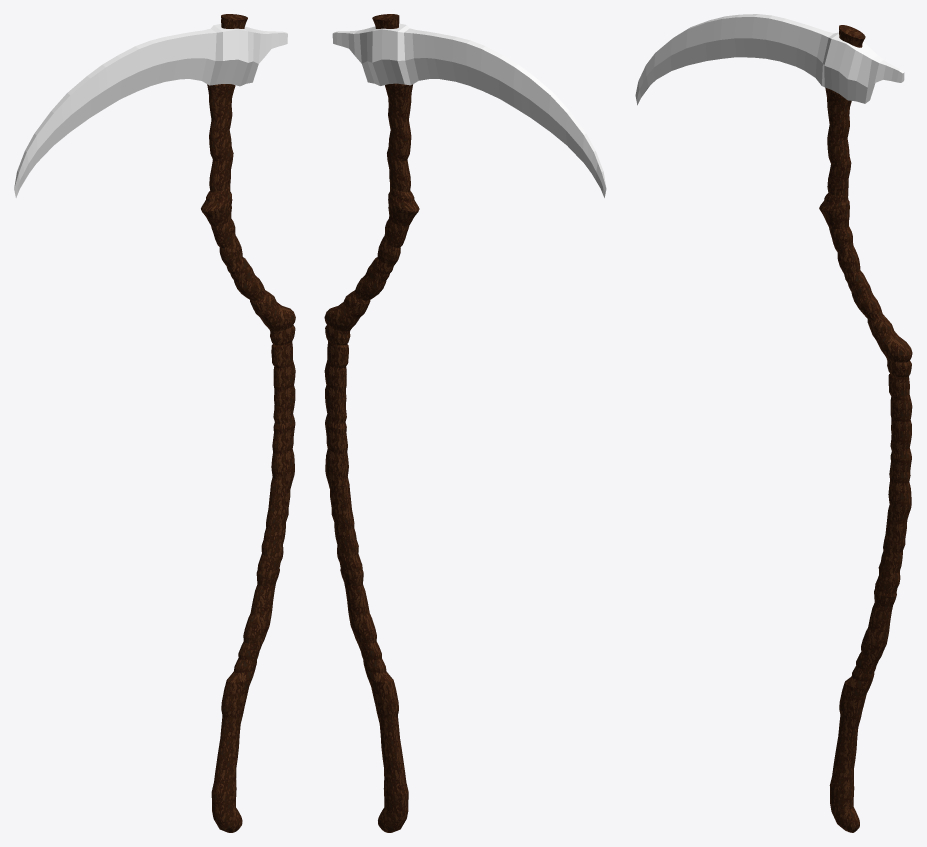
File: Hoz.glb
The picture shows the model from 3 angles, left to right: view 1: azimuth 30°, elevation 25°; view 2: azimuth 150°, elevation 25°; view 3: azimuth 330°, elevation 25°; orthographic projection.
Parts seen in each view (by area): view 1: Mano Low; view 2: Mano Low; view 3: Mano Low.
Part boxes in pixels (bbox=[...]): Mano Low: bbox=[14, 14, 295, 832]; Mano Low: bbox=[324, 14, 606, 832]; Mano Low: bbox=[635, 14, 912, 832].
Size of the model in its own units: 10.02 by 27.86 by 1.12.
2 materials, 1 textured.
